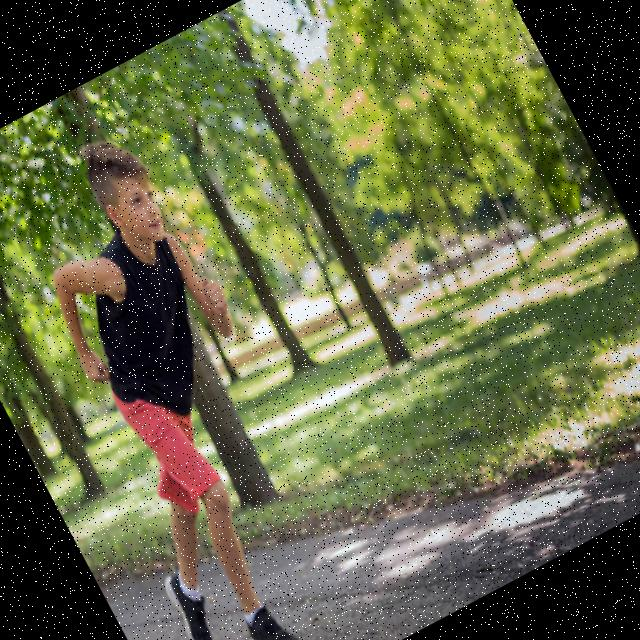Person: (0, 121, 390, 640)
